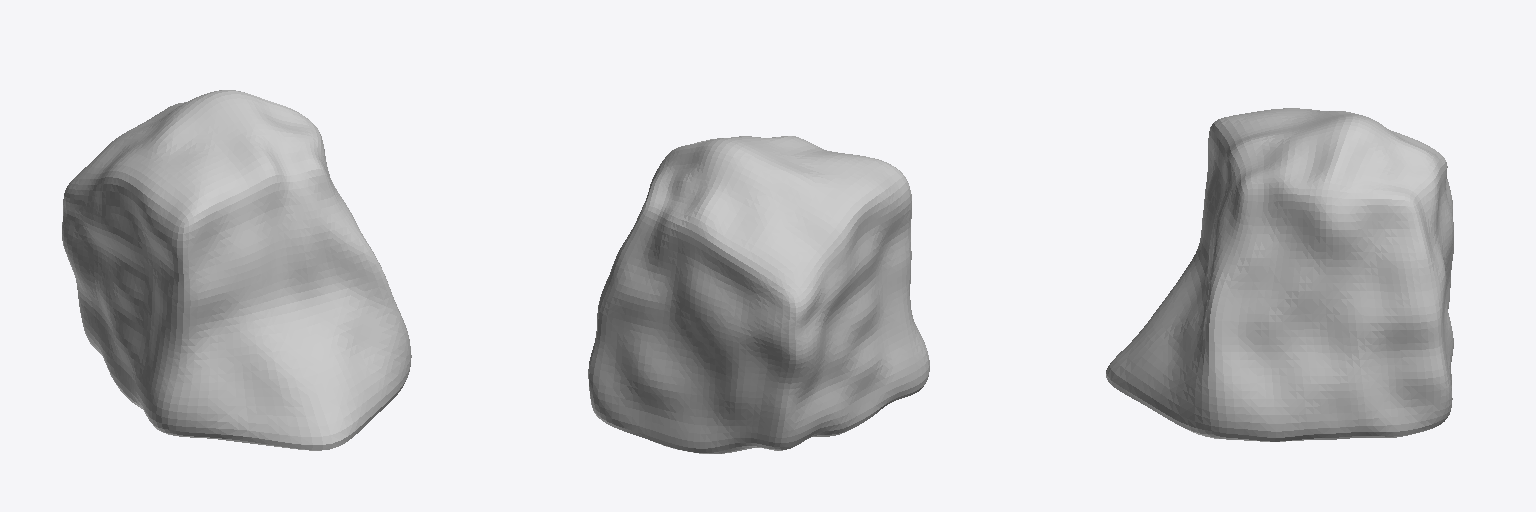
File: rock_brown.obj
3 renders of one model, left to right at view 1: azimuth 30°, elevation 25°; view 2: azimuth 150°, elevation 25°; view 3: azimuth 270°, elevation 25°, orthographic.
Parts seen in each view (by area): view 1: Cube; view 2: Cube; view 3: Cube.
Part boxes in pixels (left/top/right/bottom): Cube: left=62, top=90, right=411, bottom=450; Cube: left=588, top=136, right=929, bottom=453; Cube: left=1106, top=108, right=1453, bottom=441.
Size of the model in its own units: 255 by 258 by 298.